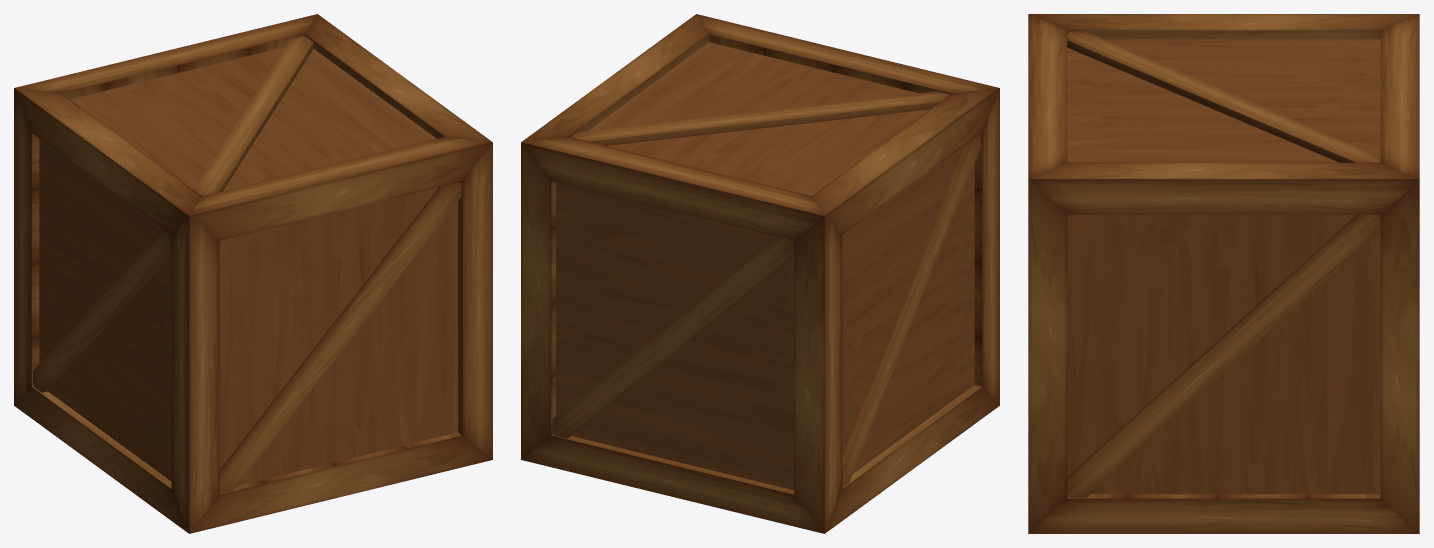
Rendered from Crate.001.fbx.
3 renders of one model, left to right at view 1: azimuth 30°, elevation 25°; view 2: azimuth 150°, elevation 25°; view 3: azimuth 270°, elevation 25°, orthographic. The views are drawn at different scales.
Parts seen in each view (by area): view 1: Crate.001; view 2: Crate.001; view 3: Crate.001.
Boxes of the visible parts, box(x1,y1,x2,y2) form: Crate.001: box(14, 14, 492, 533); Crate.001: box(521, 14, 999, 533); Crate.001: box(1028, 14, 1419, 533).
Bounding box in the file's own units: 100 × 100 × 100.
